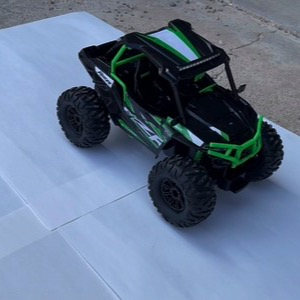polaris: (57, 19, 286, 229)
